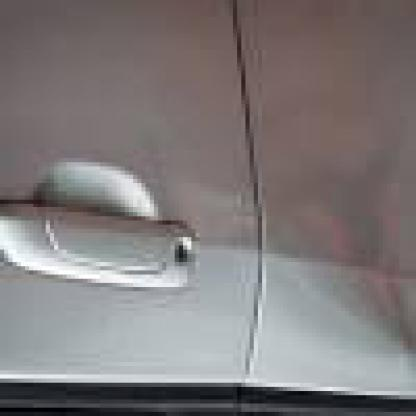dent: (362, 116, 412, 350)
